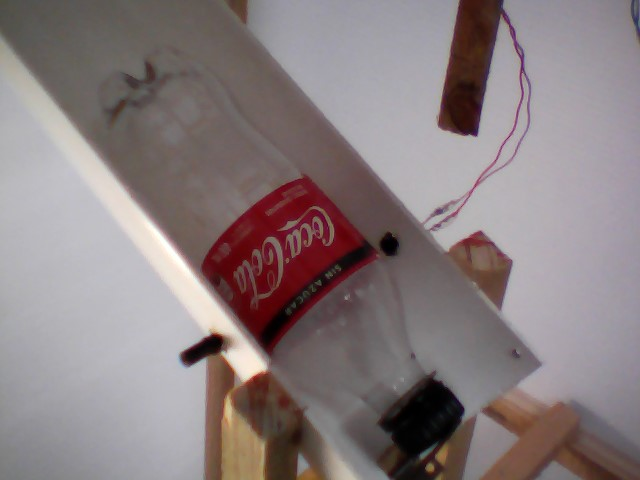plastico: (70, 40, 470, 459)
